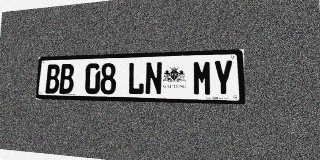0: (85, 63, 101, 94)
8: (100, 63, 117, 94)
B: (45, 64, 60, 94), (59, 64, 74, 94)
L: (127, 62, 145, 95)
M: (193, 60, 212, 96)
N: (145, 62, 163, 95)
Y: (213, 60, 234, 96)
